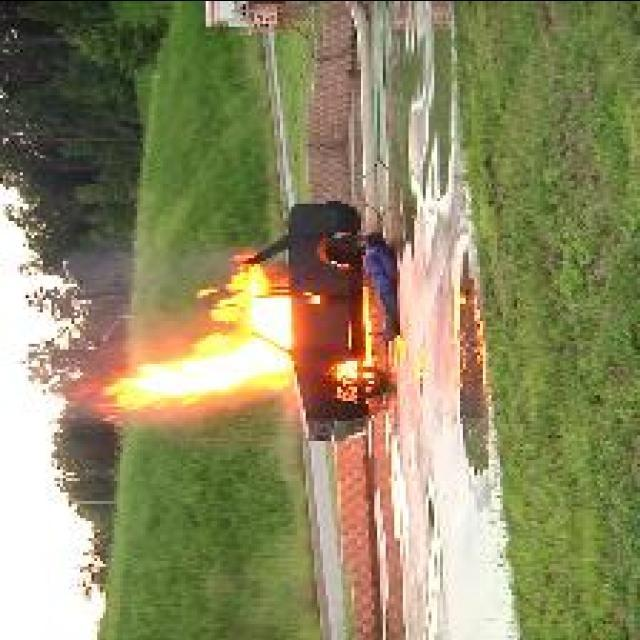Fire: (107, 252, 290, 412)
